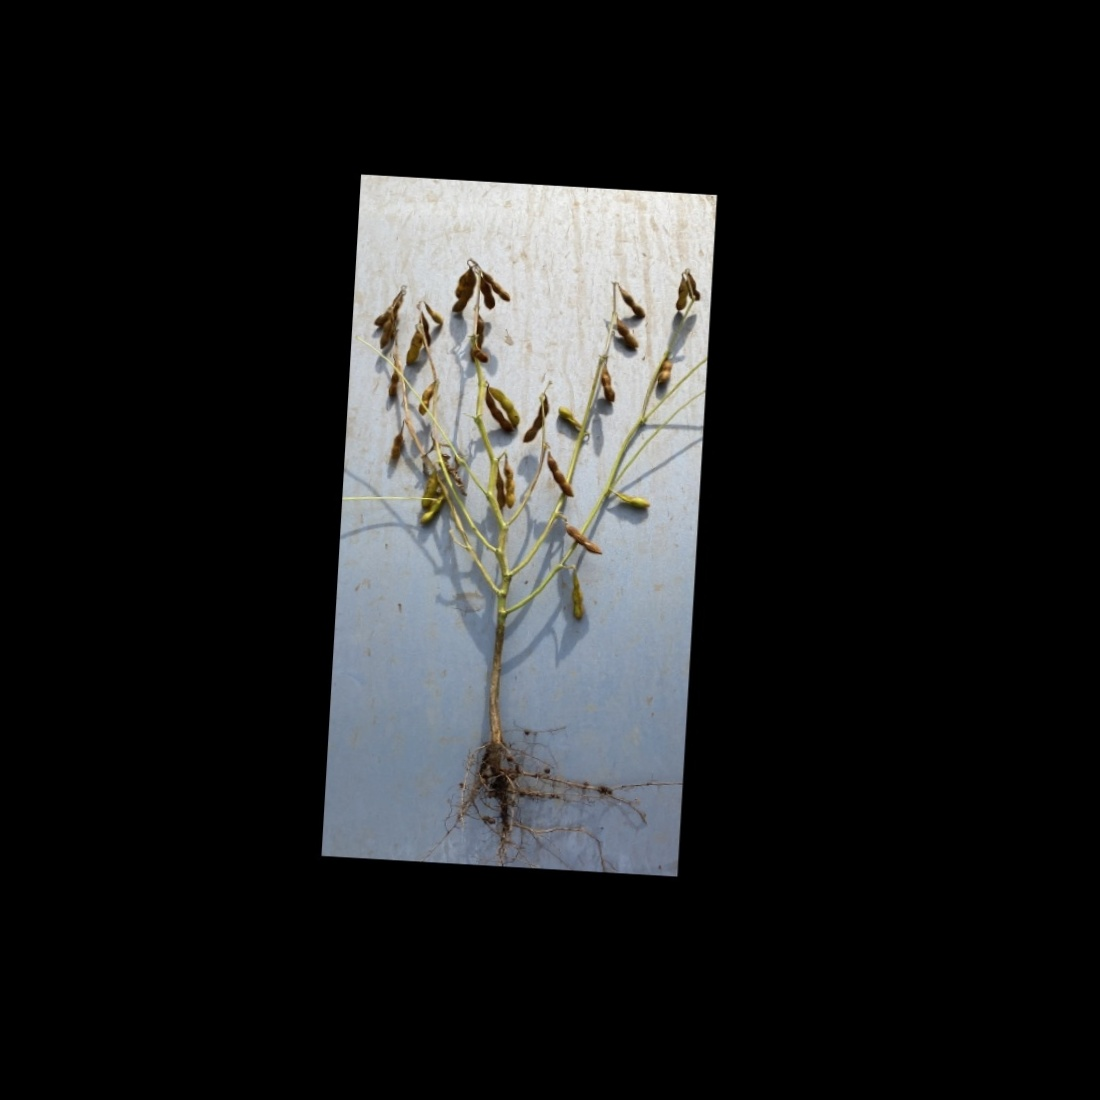pod: (515, 388, 558, 453), (479, 384, 528, 434), (474, 383, 517, 438), (564, 566, 594, 622), (542, 455, 579, 498), (476, 265, 514, 307), (615, 282, 651, 322), (562, 525, 609, 554), (399, 323, 426, 372), (473, 272, 503, 316), (590, 361, 618, 406), (385, 423, 408, 465), (611, 321, 644, 352), (500, 467, 520, 510), (416, 382, 437, 418), (386, 369, 403, 406), (658, 360, 681, 386)
soy: (337, 213, 703, 831)
